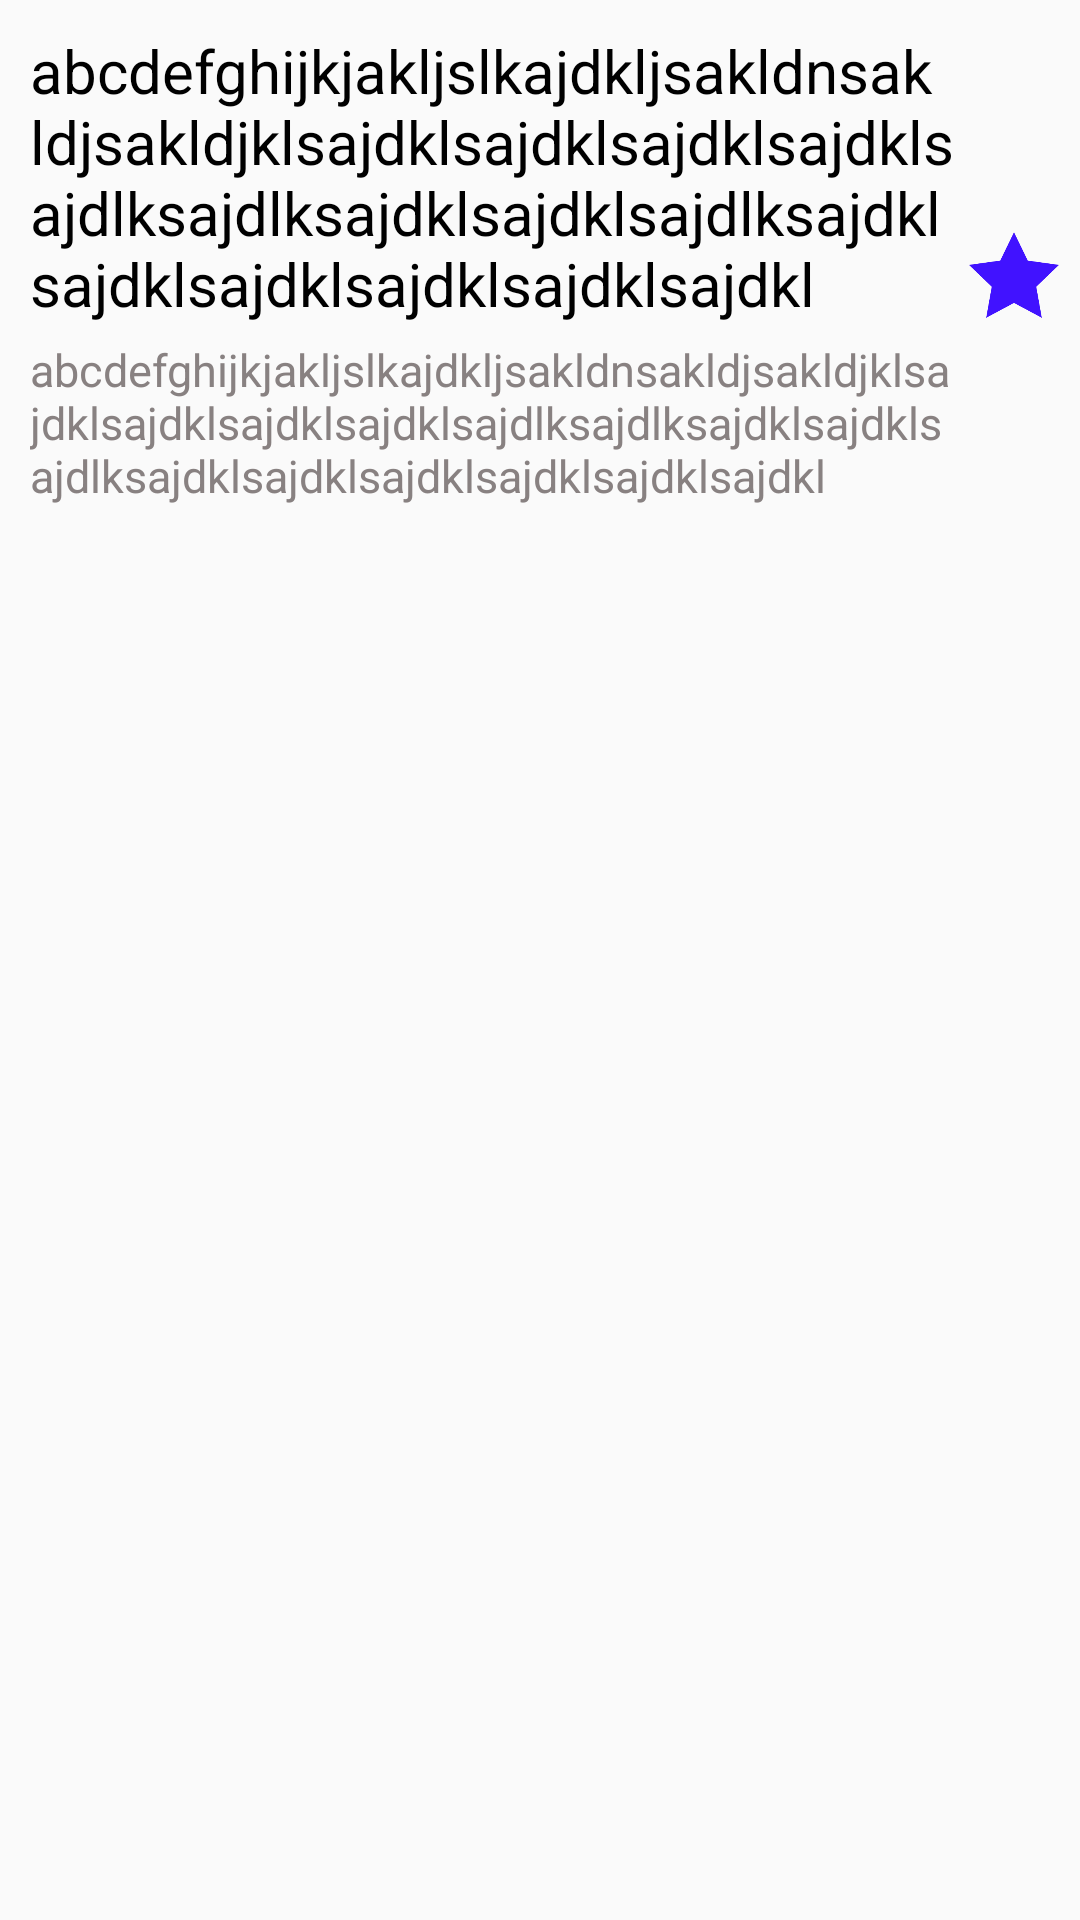

Point at icon controls on the screen. Image size 1080*1920, points as [x,y].
star click: [1014,275]
